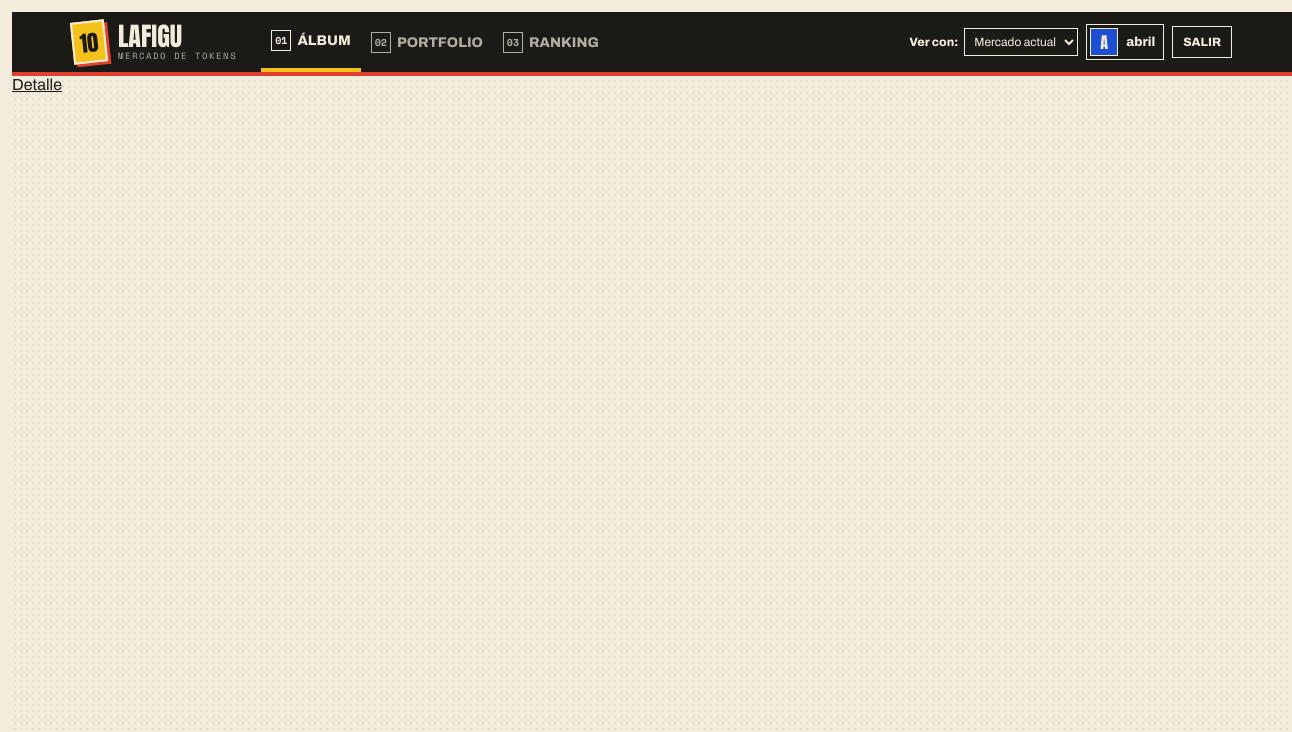
Test case: Header strategy selector › appears on album, detail and portfolio, keeps choice, and does not PUT
Select "Momentum" in the dropdown labelled "Ver con:" at (1021,42), box top-left (964, 28), bottom-right (1078, 56)
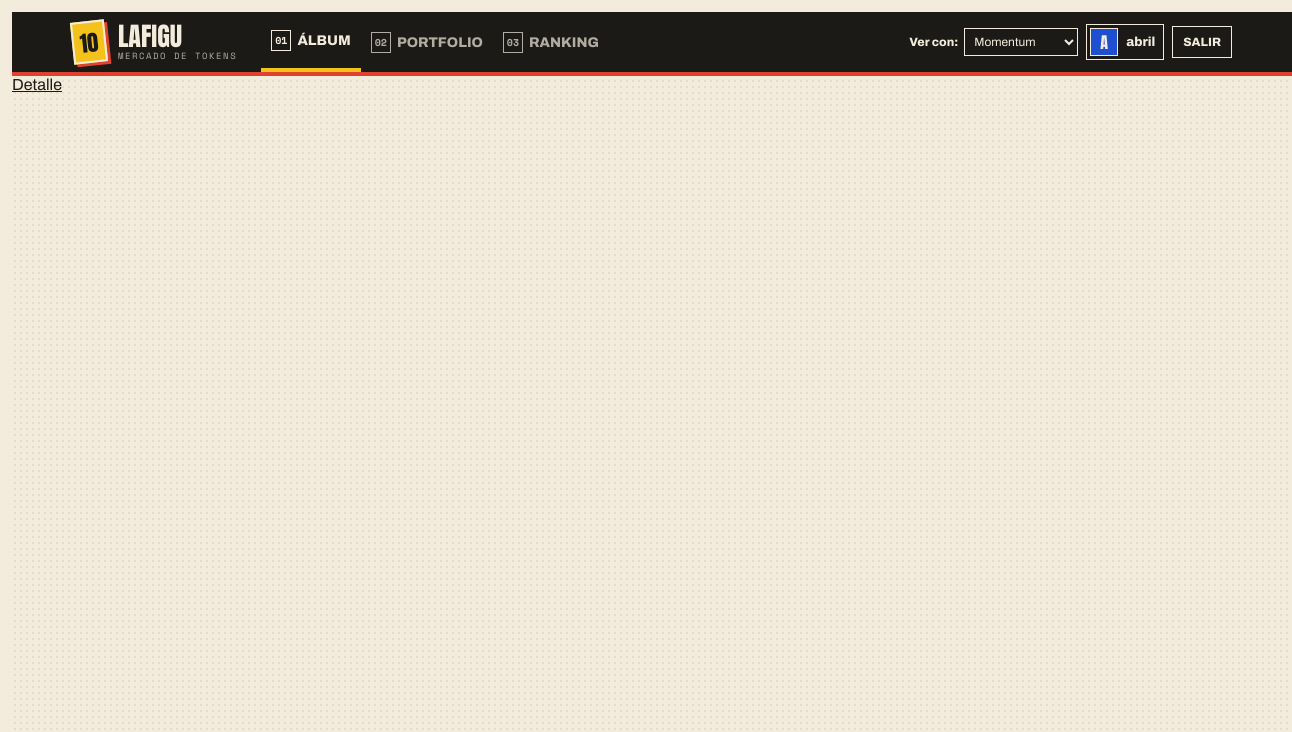
Click the link "02 Portfolio".
click(427, 42)  # box top-left (371, 32), bottom-right (483, 52)
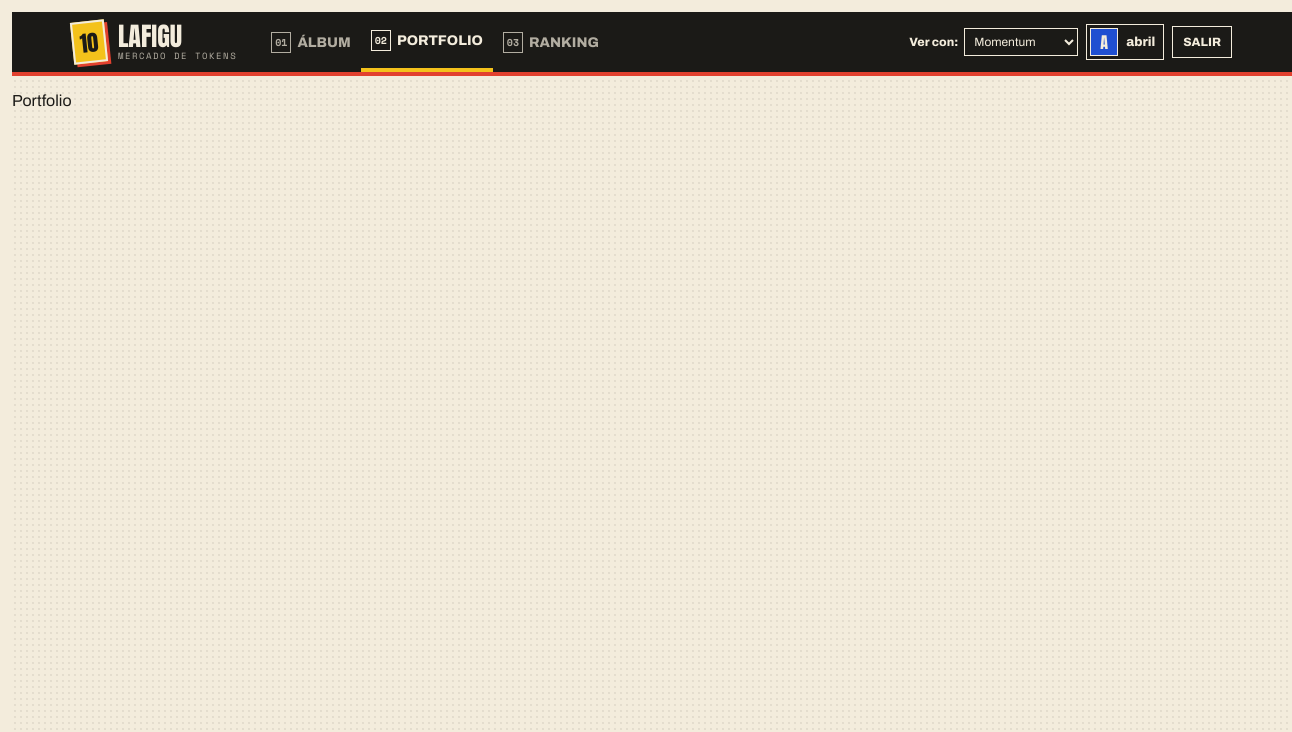
Click the link "03 Ranking".
click(551, 42)  # box top-left (503, 32), bottom-right (599, 52)
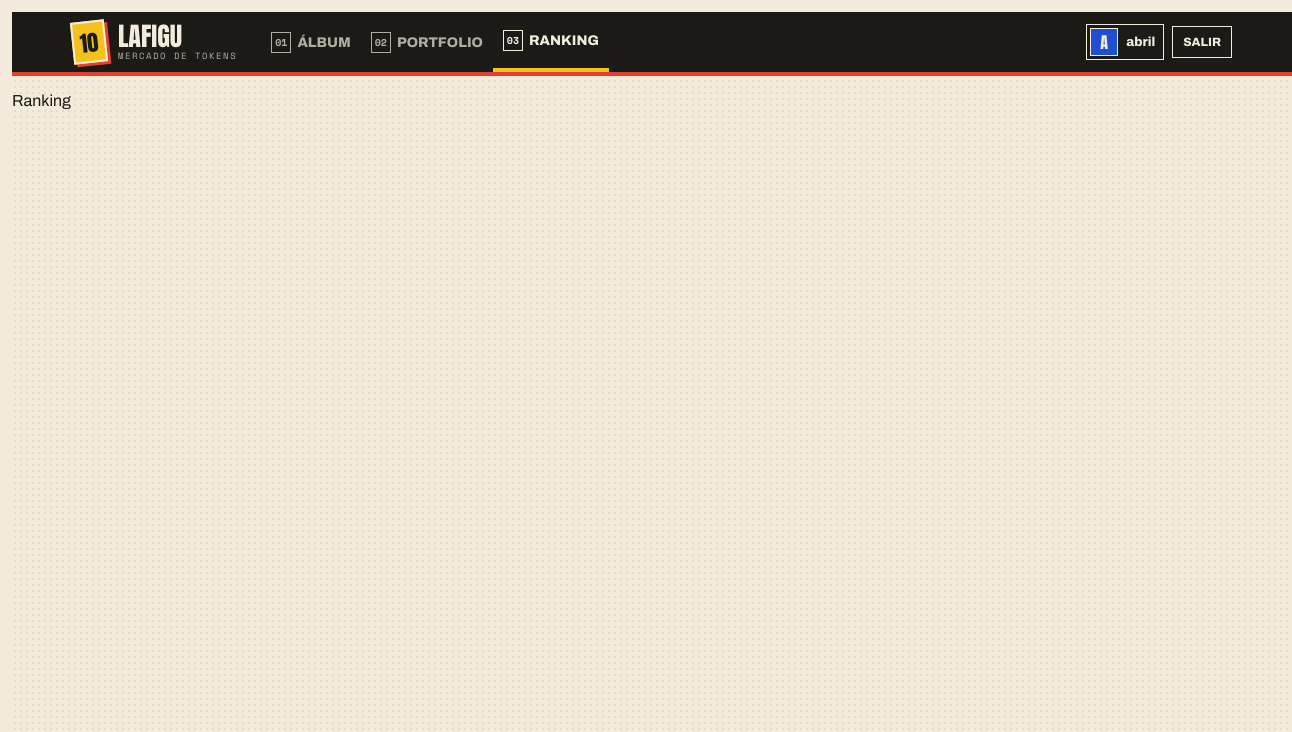
Result: the label "Ver con" is gone
